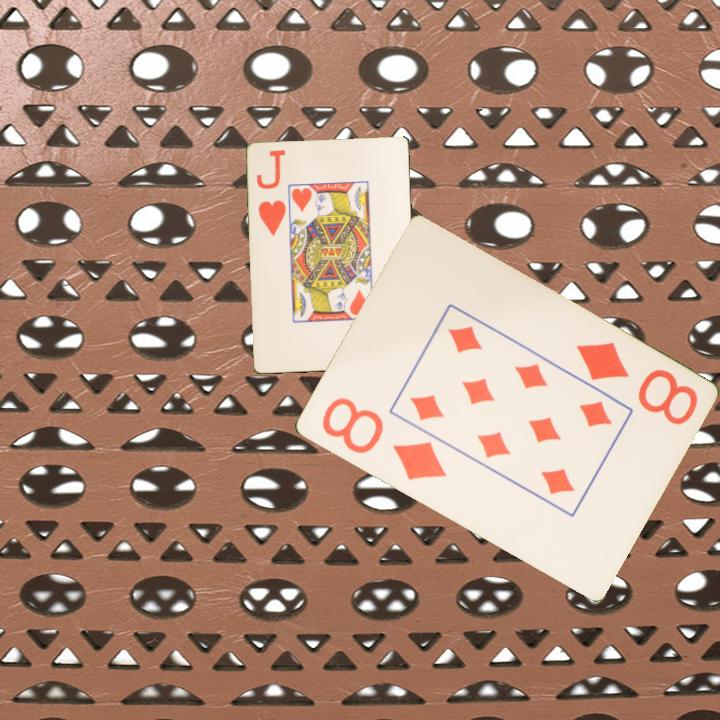8d: (317, 394, 449, 484), (571, 338, 701, 429)
Jh: (255, 197, 289, 239)
